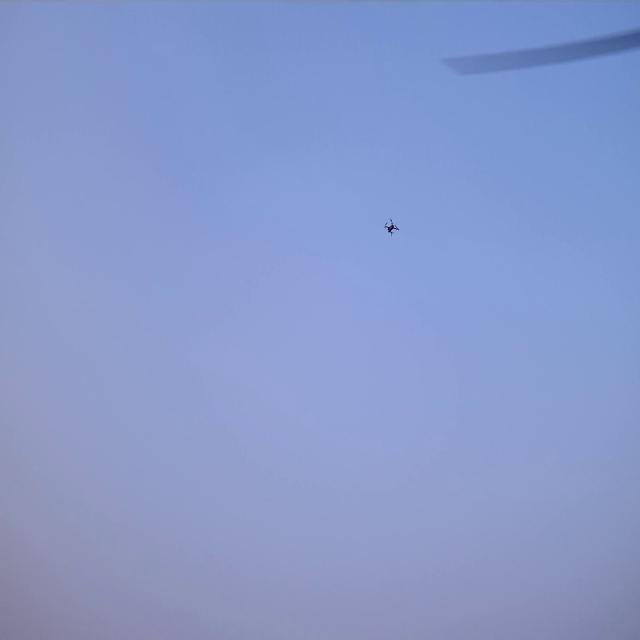UAV: (385, 222, 398, 233)
